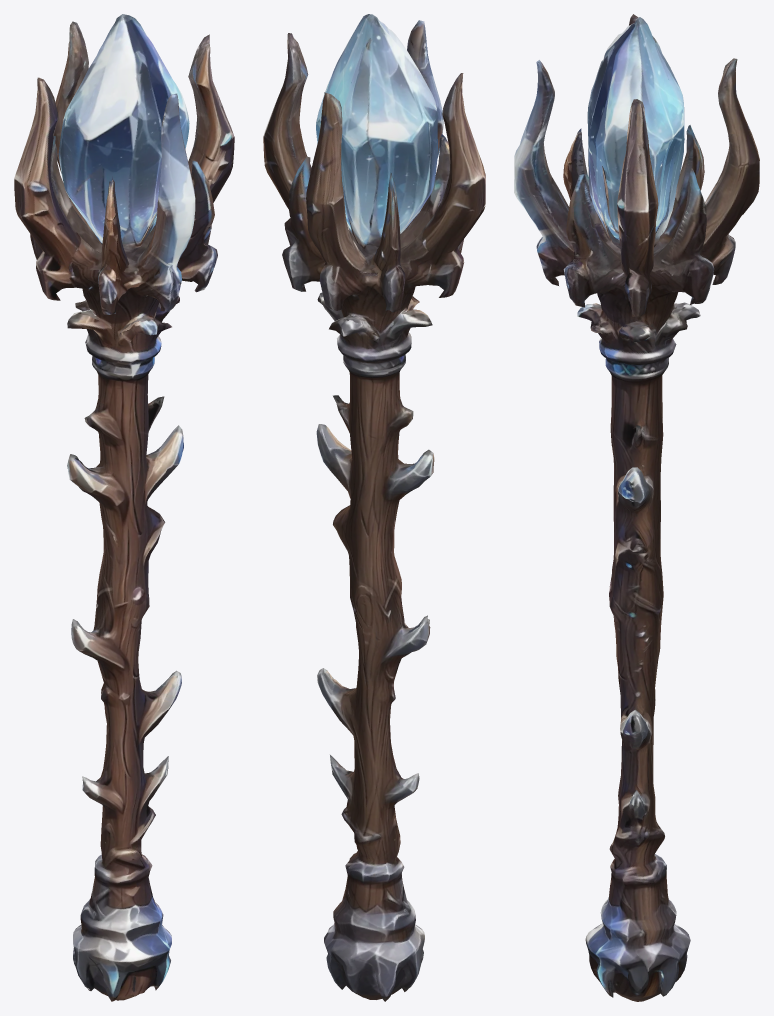
File: darkshade-scepter.glb
3 renders of one model, left to right at view 1: azimuth 30°, elevation 25°; view 2: azimuth 150°, elevation 25°; view 3: azimuth 270°, elevation 25°, orthographic.
Bounding box in the file's own units: 0.4499 × 2 × 0.4537.
Materials: 1 (1 with a texture image).
